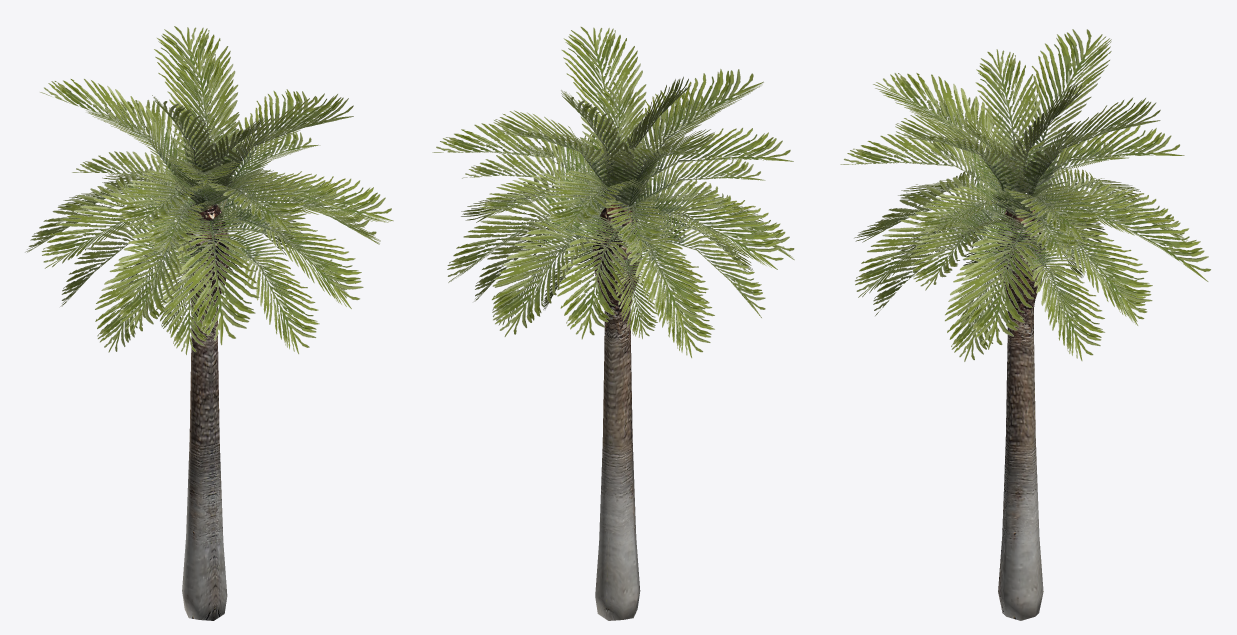
File: tree8.glb
3 renders of one model, left to right at view 1: azimuth 30°, elevation 25°; view 2: azimuth 150°, elevation 25°; view 3: azimuth 270°, elevation 25°, orthographic.
Parts seen in each view (by area): view 1: Object_100.002; view 2: Object_100.002; view 3: Object_100.002.
Part boxes in pixels (bbox=[...]): Object_100.002: bbox=[25, 26, 393, 620]; Object_100.002: bbox=[432, 26, 794, 620]; Object_100.002: bbox=[840, 29, 1211, 620].
Bounding box in the file's own units: 3.21 × 5.01 × 3.2.
1 material, 1 textured.
